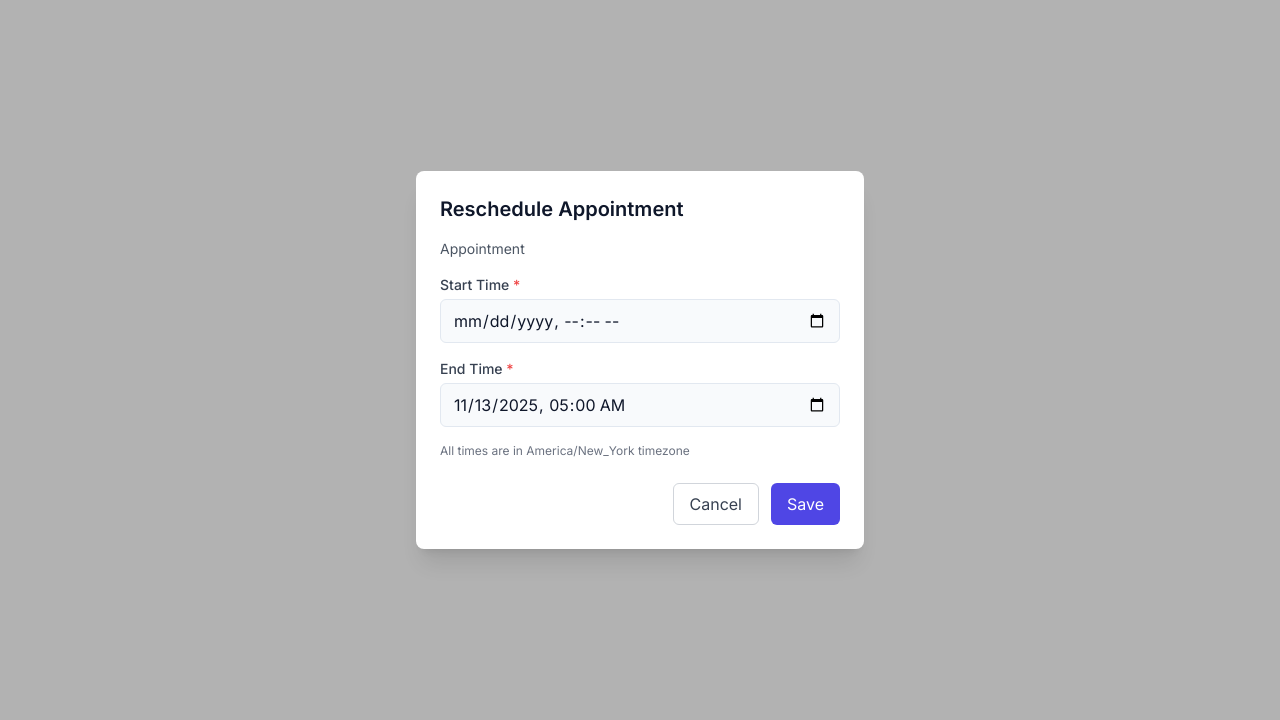
Test: RescheduleModal › Validation error messaging › should clear error message when user types in field
This screenshot has width=1280, height=720.
Trigger validation error
Click the button "Save": (806, 504) x1=771 y1=483 x2=840 y2=525
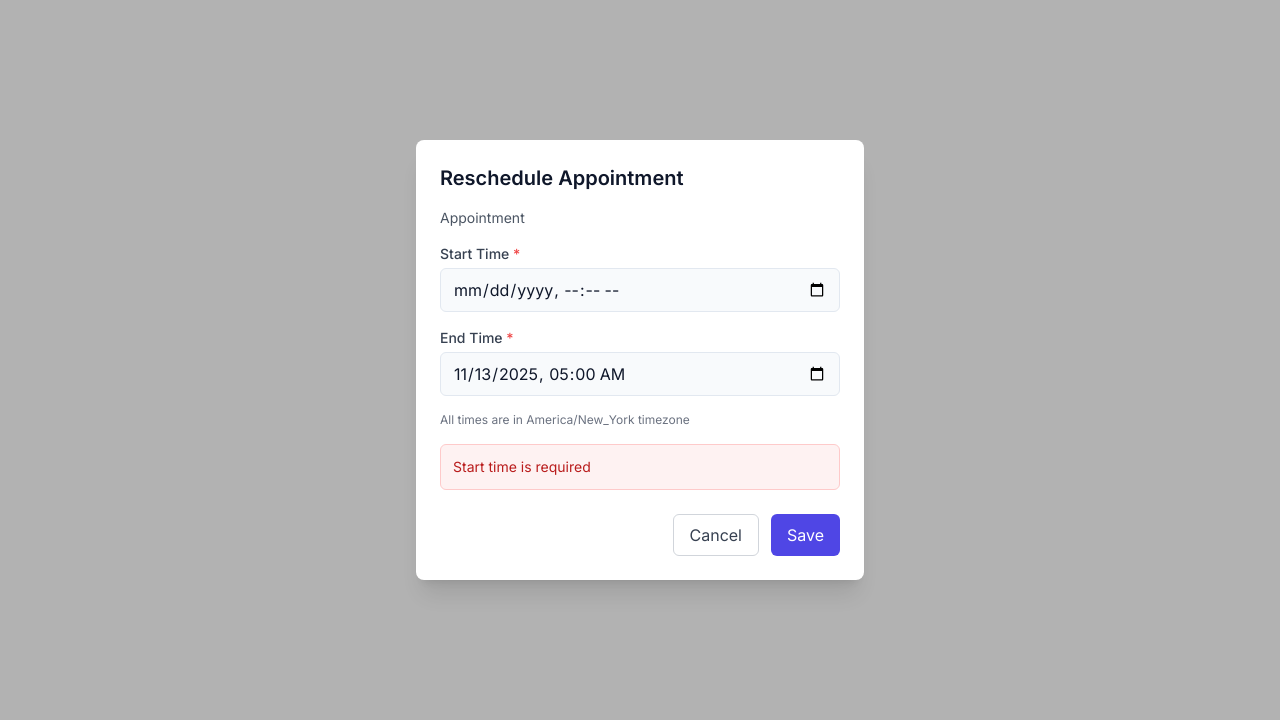
Now the text "Start time is required" is shown, box x1=440 y1=444 x2=840 y2=490
Type in start field
In the field labelled "Start Time *": (640, 290) x1=440 y1=268 x2=840 y2=312, type "2025-11-13T09:00"
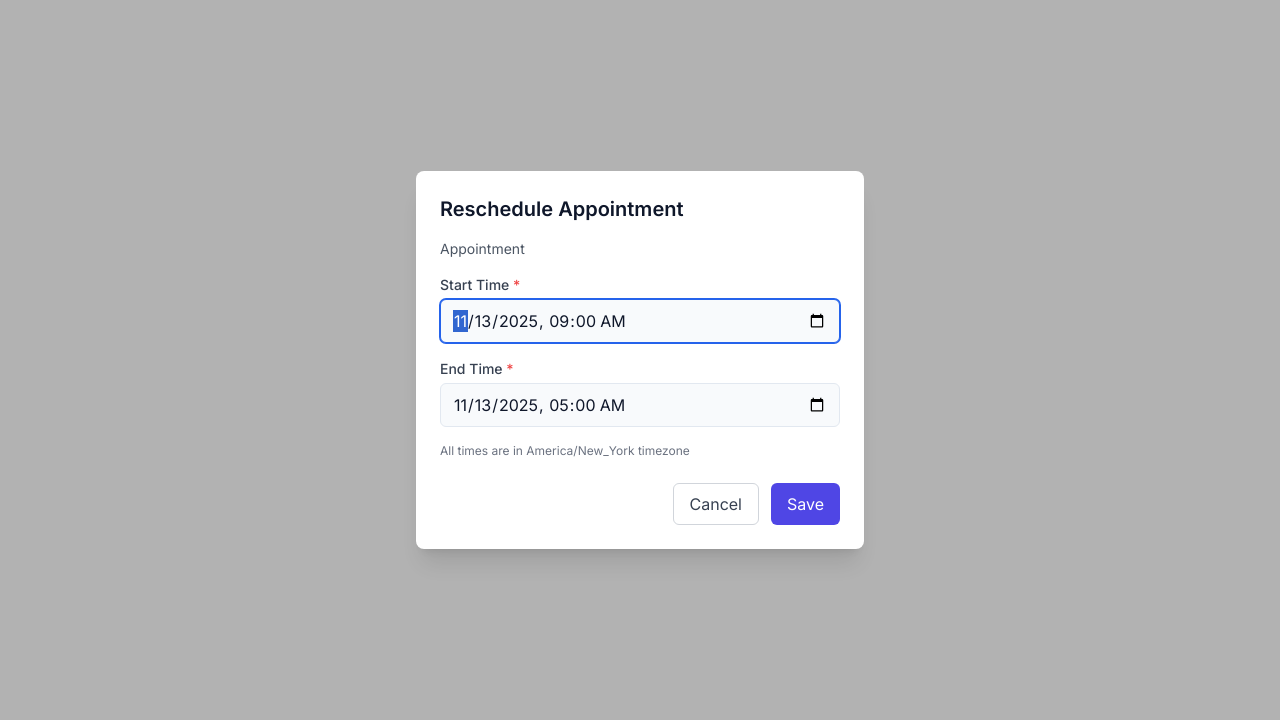
Now the text "Start time is required" is gone
